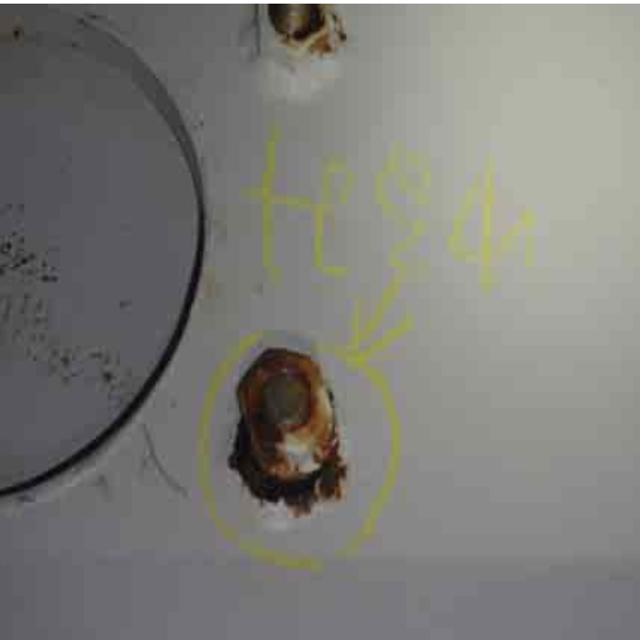corrosion: (221, 318, 360, 522), (242, 9, 382, 87)
